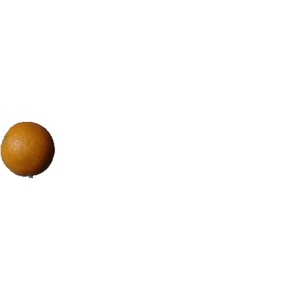laranja: (1, 119, 57, 181)
